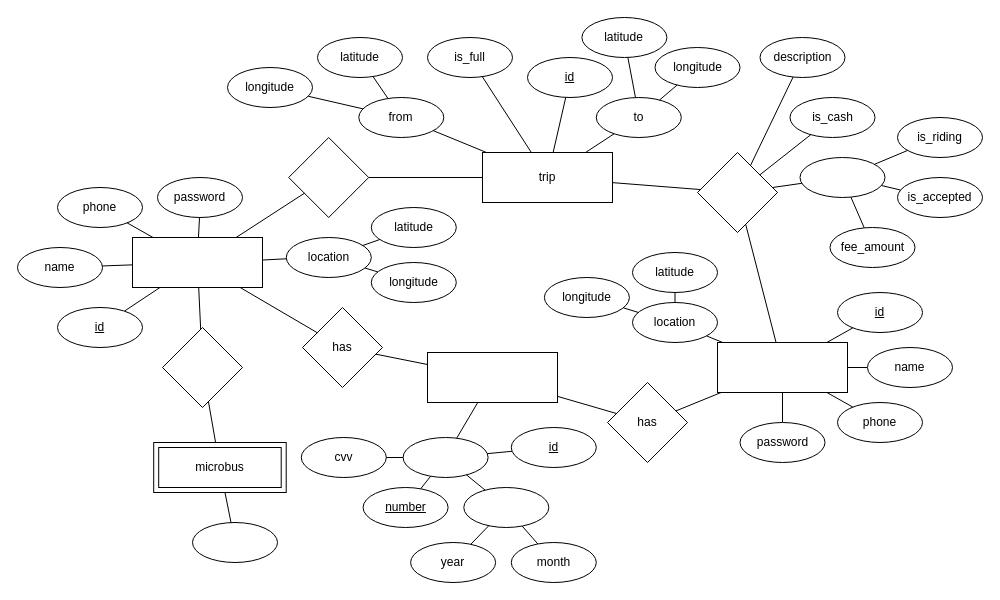
Image size: 1000x600. Some labels were removed from this diagram. Each missing label, with the box of its shape:
bank_account: (426, 352, 558, 402)
card: (402, 436, 488, 478)
driver: (132, 236, 262, 288)
drives: (162, 326, 242, 408)
expire_date: (463, 486, 549, 528)
passenger: (716, 342, 848, 392)
plate_number: (192, 522, 278, 562)
requests: (696, 152, 778, 232)
response: (799, 156, 885, 198)
starts: (288, 136, 369, 218)
